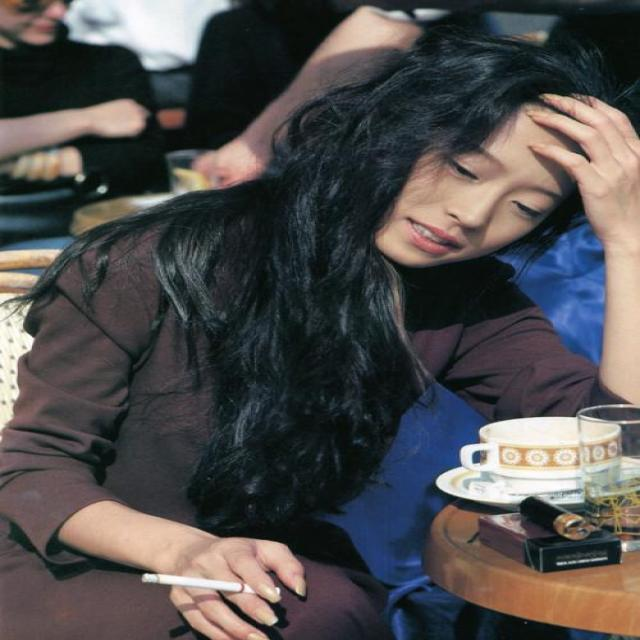cigarette: (109, 544, 308, 610)
